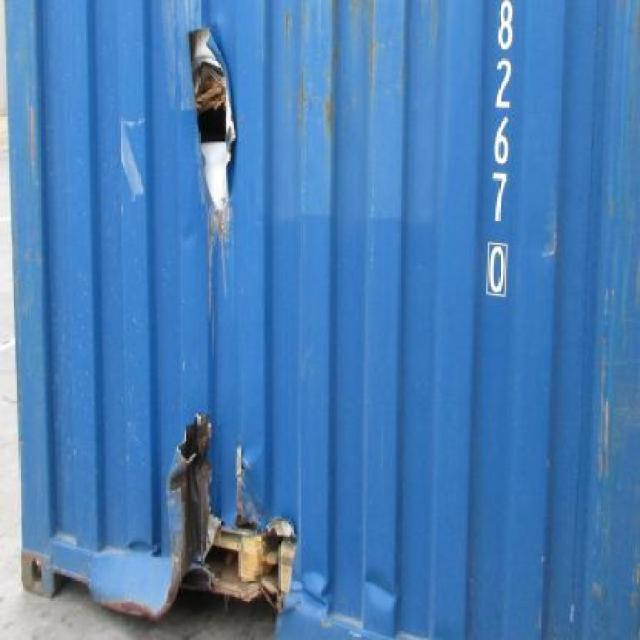hole: (163, 416, 298, 618), (186, 19, 245, 218)
rust: (371, 1, 376, 93), (323, 94, 334, 131)
